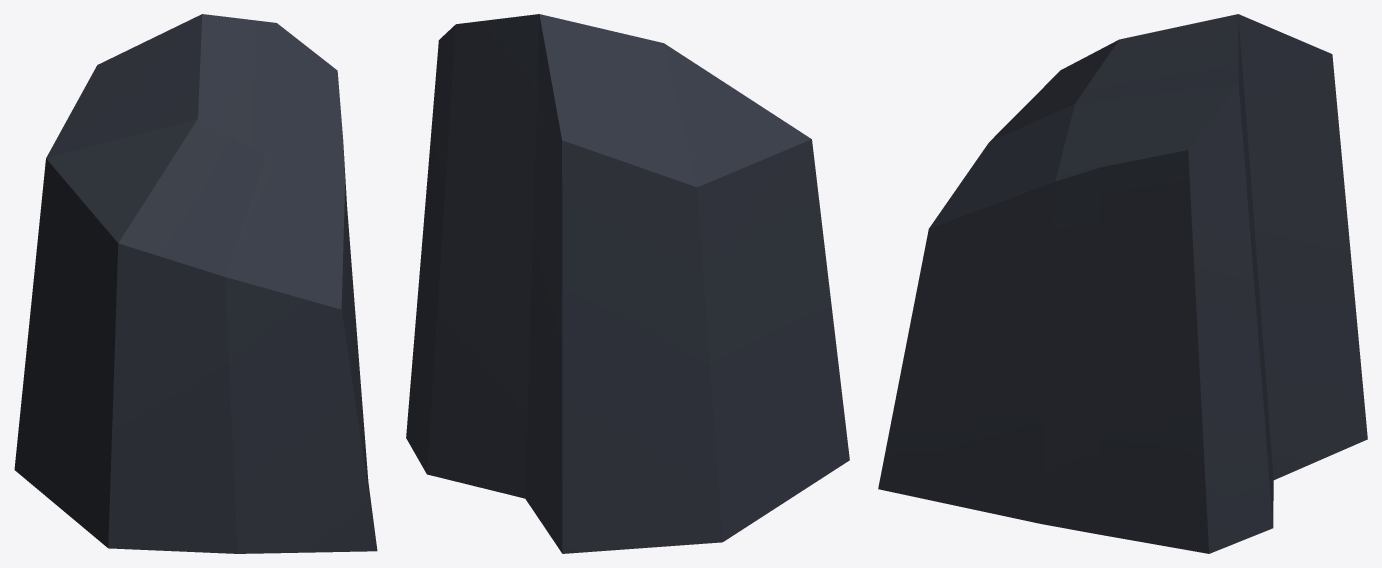
The model's file is SM_Rock2.fbx.
The picture shows the model from 3 angles, left to right: view 1: azimuth 30°, elevation 25°; view 2: azimuth 150°, elevation 25°; view 3: azimuth 270°, elevation 25°; orthographic projection. The views are drawn at different scales.
Visible parts, largest first — view 1: SM_Rock2_Body; view 2: SM_Rock2_Body; view 3: SM_Rock2_Body.
Boxes of the visible parts, x1=… form: SM_Rock2_Body: x1=14, y1=14, x2=377, y2=553; SM_Rock2_Body: x1=406, y1=14, x2=849, y2=553; SM_Rock2_Body: x1=878, y1=14, x2=1367, y2=553.
Bounding box in the file's own units: 28.73 × 36.33 × 34.45.
